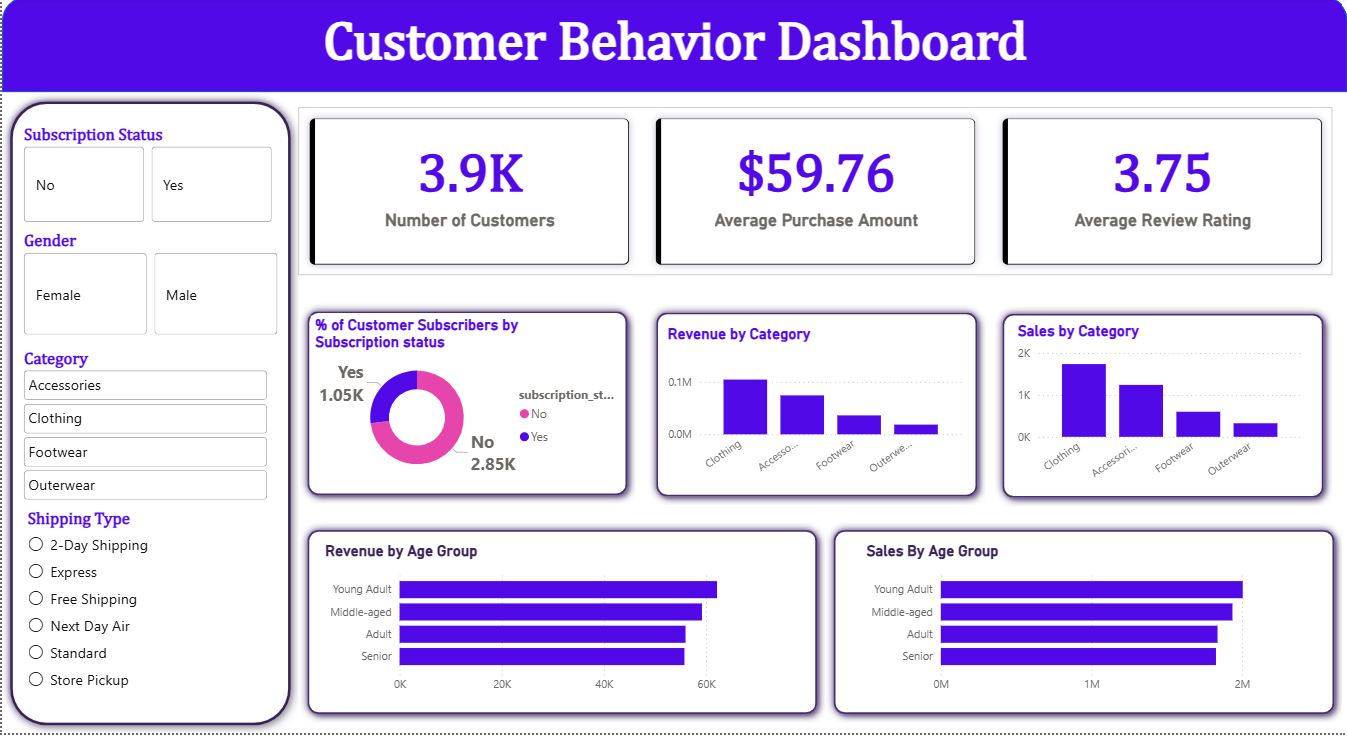

Layout of this report page (visuals, bound fields, positions):
{"tool":"powerbi","page":{"name":"Page 1","canvas":[1500,820],"ordinal":0},"visuals":[{"type":"cardVisual","fields":{"Data":["public customer.Number of Customers","public customer.Average Purchase Amount","public customer.Average Review Rating"]},"box":[313.6,106.1,1186.8,221.9],"z":0},{"type":"shape","box":[0,0,1500.3,106.1],"z":1000},{"type":"textbox","title":"Customer Behavior Dashboard","box":[0,17.7,1500.3,69.1],"z":2000},{"type":"shape","box":[331.4,341.4,374.3,222.9],"z":3000},{"type":"donutChart","title":"% of Customer Subscribers by Subscription  status","fields":{"Category":["public customer.subscription_status"],"Y":["CountNonNull(public customer.customer_id)"]},"box":[344.3,355.7,347.1,187.1],"z":4000},{"type":"shape","box":[0,106.9,330.7,713.3],"z":5000},{"type":"advancedSlicerVisual","title":"Subscription Status","fields":{"Values":["public customer.subscription_status"]},"box":[20,143.3,286.7,113.3],"z":6000},{"type":"advancedSlicerVisual","title":"Gender","fields":{"Values":["public customer.gender"]},"box":[20,261.4,292.9,120],"z":7000},{"type":"shape","box":[720,342.9,375.7,222.9],"z":8000},{"type":"shape","box":[1105.7,344.3,375.7,222.9],"z":9000},{"type":"clusteredColumnChart","title":"Sales by Category","fields":{"Category":["public customer.category"],"Y":["CountNonNull(public customer.customer_id)"]},"box":[1127.1,361.4,327.1,187.1],"z":10000},{"type":"clusteredColumnChart","title":"Revenue by Category","fields":{"Y":["Sum(public customer.purchase_amount)"],"Category":["public customer.category"]},"box":[737.1,364.3,338.6,178.6],"z":11000},{"type":"advancedSlicerVisual","title":"Category","fields":{"Values":["public customer.category"]},"box":[20,392.9,281.4,172.9],"z":12000},{"type":"listSlicer","title":"Shipping Type","fields":{"Values":["public customer.shipping_type"]},"box":[24.3,571.4,280,224.3],"z":13000},{"type":"shape","box":[331.4,584.3,585.7,222.9],"z":14000},{"type":"clusteredBarChart","title":"Revenue by Age Group","fields":{"Y":["Sum(public customer.purchase_amount)"],"Category":["public customer.age_group"]},"box":[355.7,607.1,501.4,177.1],"z":15000},{"type":"shape","box":[917.1,584.3,575.7,222.9],"z":16000},{"type":"clusteredBarChart","title":"Sales By Age Group","fields":{"Y":["Sum(public customer.customer_id)"],"Category":["public customer.age_group"]},"box":[958.6,607.1,521.4,177.1],"z":17000}]}

Visuals, with their boxes in screenshot pixels (x1, y1, x2, y2), scaled from the page's 1500x820 canvas onto the 1347x736 screenshot:
cardVisual - public customer.Number of Customers x public customer.Average Purchase Amount: 282 95 1346 294
shape: 0 0 1346 95
"Customer Behavior Dashboard" textbox: 0 16 1346 78
shape: 298 306 634 506
"% of Customer Subscribers by Subscription  status" donutChart: 309 319 621 487
shape: 0 96 297 735
"Subscription Status" advancedSlicerVisual: 18 129 275 230
"Gender" advancedSlicerVisual: 18 235 281 342
shape: 647 308 984 508
shape: 993 309 1330 509
"Sales by Category" clusteredColumnChart: 1012 324 1306 492
"Revenue by Category" clusteredColumnChart: 662 327 966 487
"Category" advancedSlicerVisual: 18 353 271 508
"Shipping Type" listSlicer: 22 513 273 714
shape: 298 524 824 725
"Revenue by Age Group" clusteredBarChart: 319 545 770 704
shape: 824 524 1341 725
"Sales By Age Group" clusteredBarChart: 861 545 1329 704
